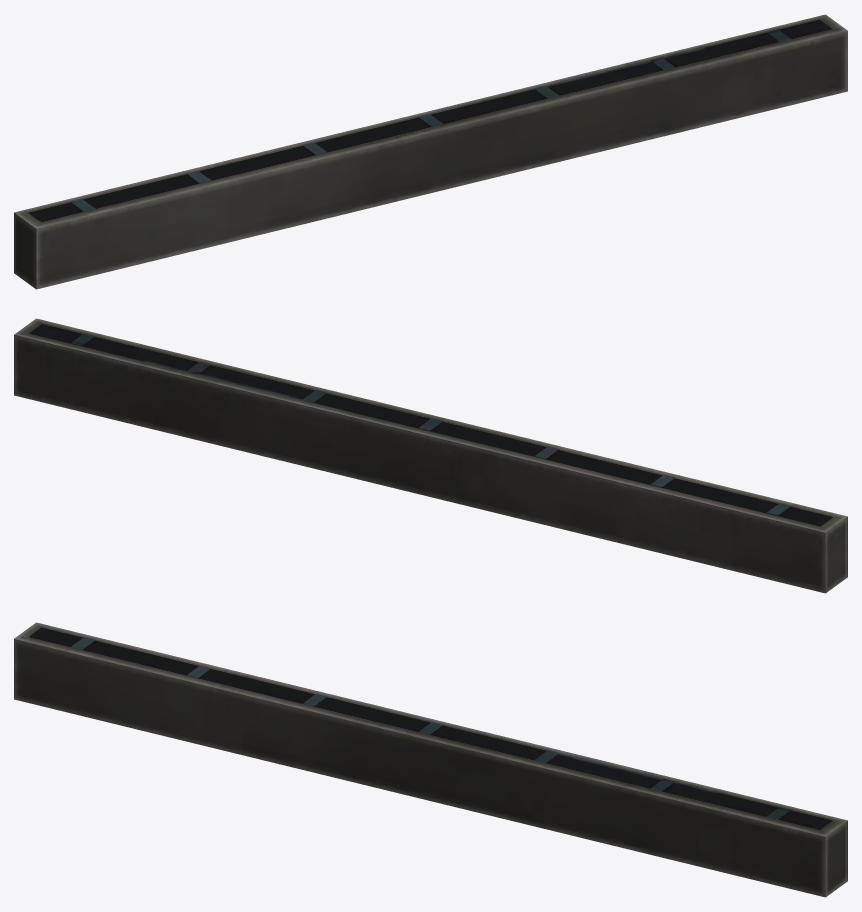
The model's file is gutter.glb.
The picture shows the model from 3 angles, top to bottom: view 1: azimuth 30°, elevation 25°; view 2: azimuth 150°, elevation 25°; view 3: azimuth 330°, elevation 25°; orthographic projection.
Visible parts, largest first — view 1: te_retaining_gutter; view 2: te_retaining_gutter; view 3: te_retaining_gutter.
Part boxes in pixels (bbox=[...]): te_retaining_gutter: bbox=[14, 14, 847, 289]; te_retaining_gutter: bbox=[14, 318, 847, 593]; te_retaining_gutter: bbox=[14, 622, 847, 897].
Size of the model in its own units: 0.84 by 0.0612 by 0.04.
1 material, 1 textured.
